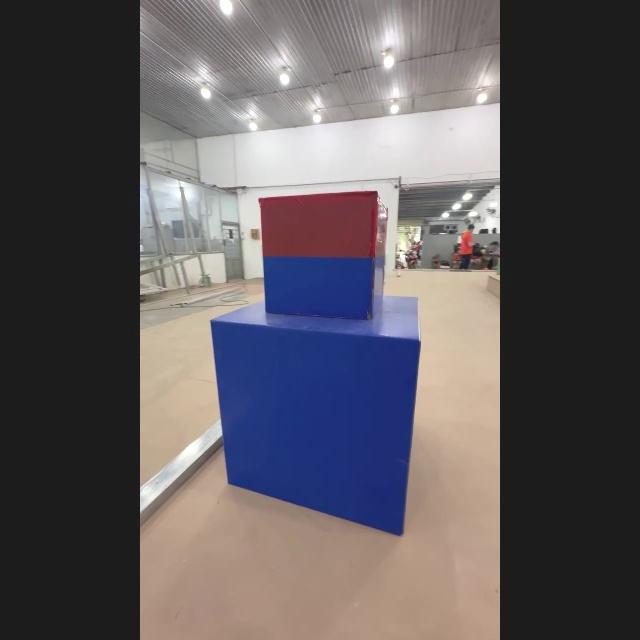earth_block: (208, 295, 421, 538)
sky_block: (259, 188, 395, 322)
